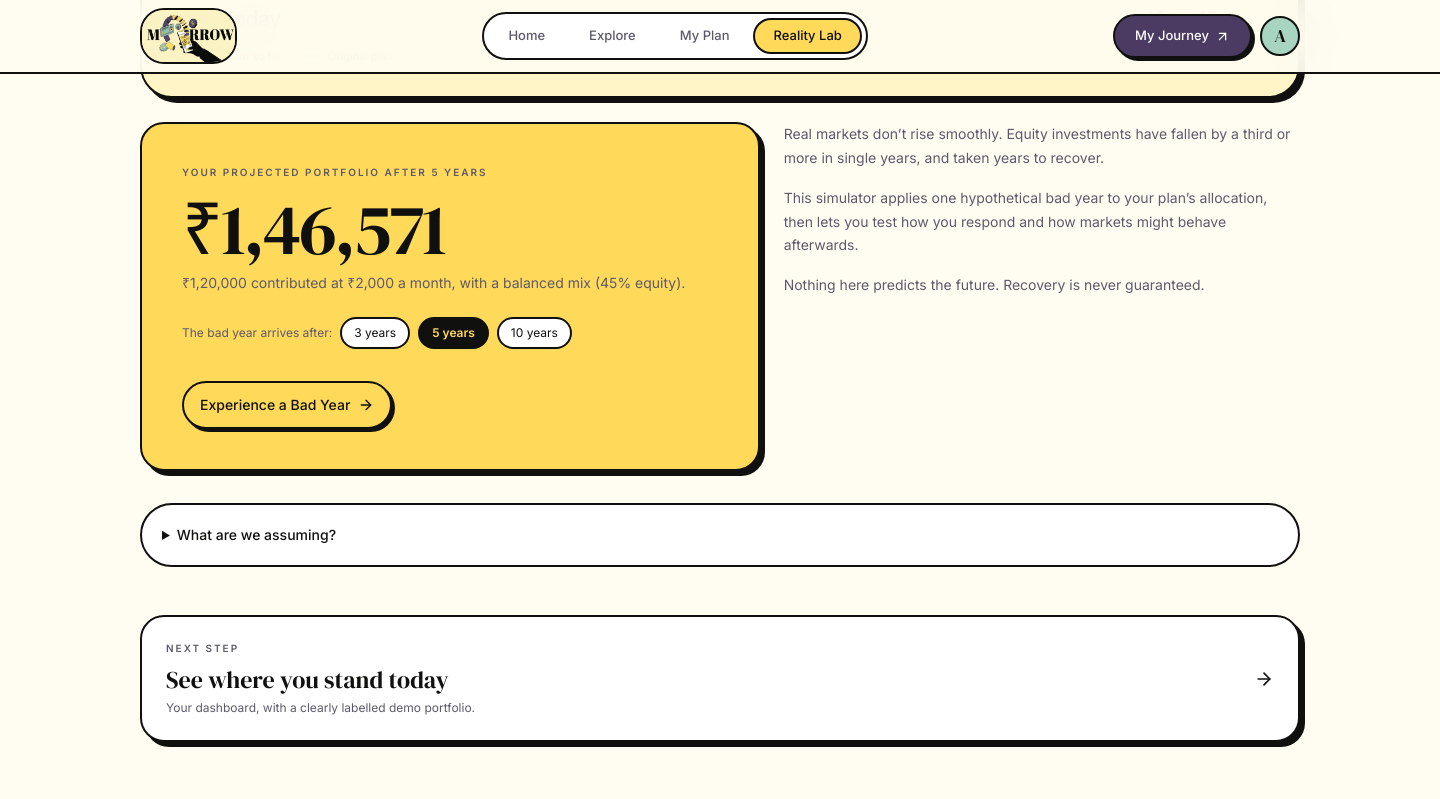
it: Reality Lab › walks through a bad year, decisions and scenarios without changing the plan
(page scrolled)
What coordinates should you click on to do the following:
click the button "Experience a Bad Year"
I would click on:
 (287, 405)
Its box is [182,381,392,429].
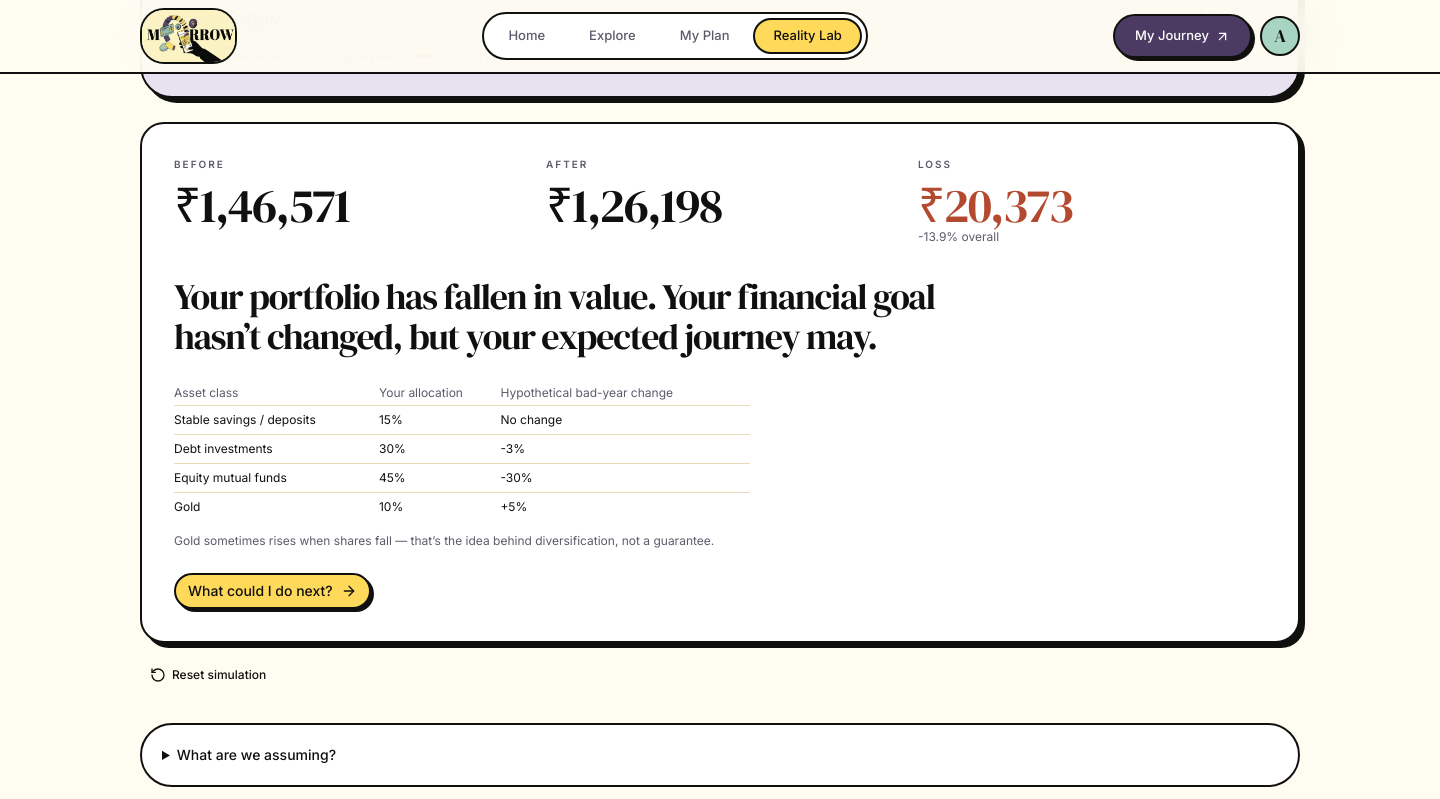
expect the text "Your financial goal hasn’t changed, but your expected journey may" is shown: met, box [174,272,935,361]
What coordinates should you click on to do the following:
click the button "What could I do next?"
I would click on:
 (272, 591)
Its box is [174,573,371,609].
(page scrolled)
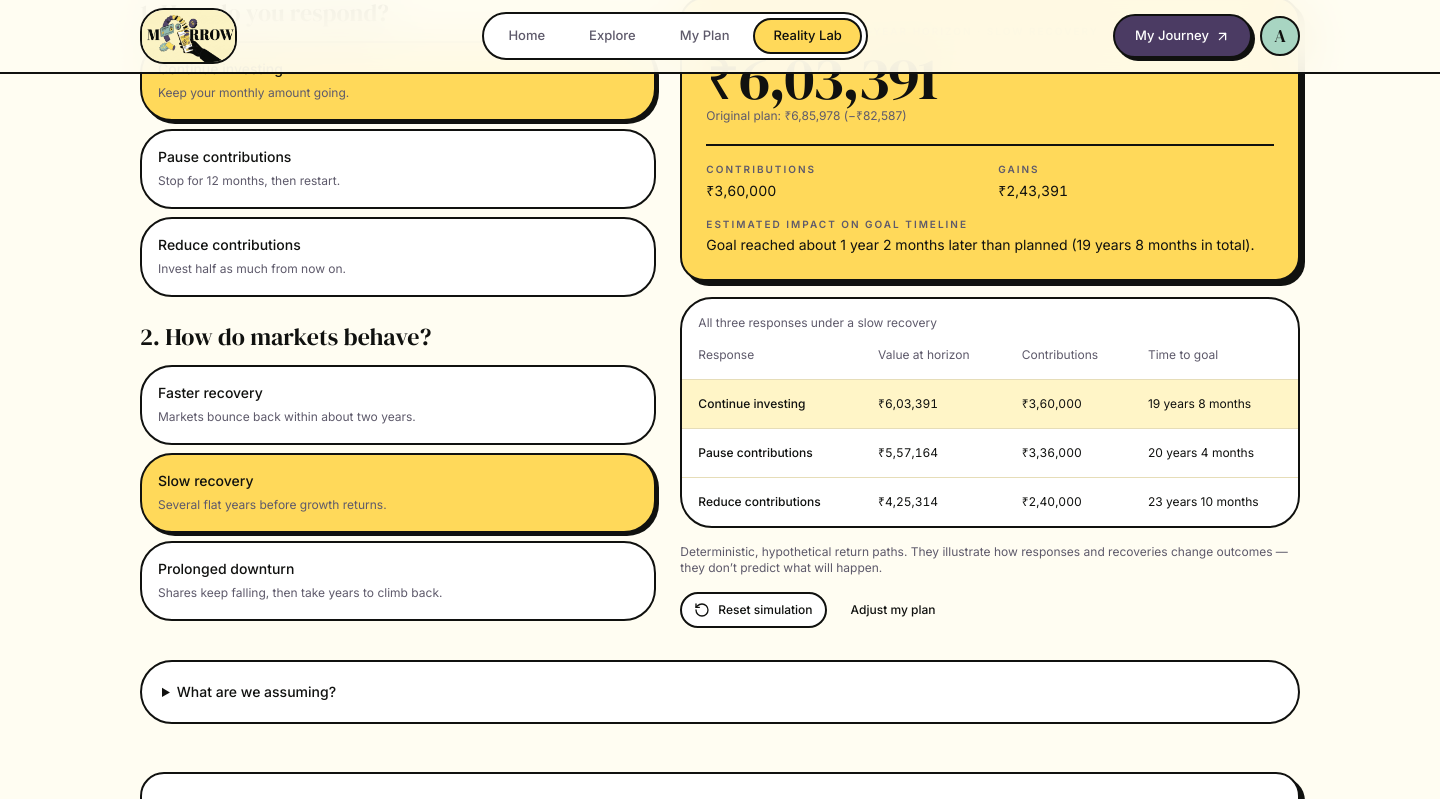
What coordinates should you click on to do the following:
click the radio button labelled "Faster recovery Markets bounce back within about two years."
I would click on:
 (210, 393)
Its box is [140,365,656,445].
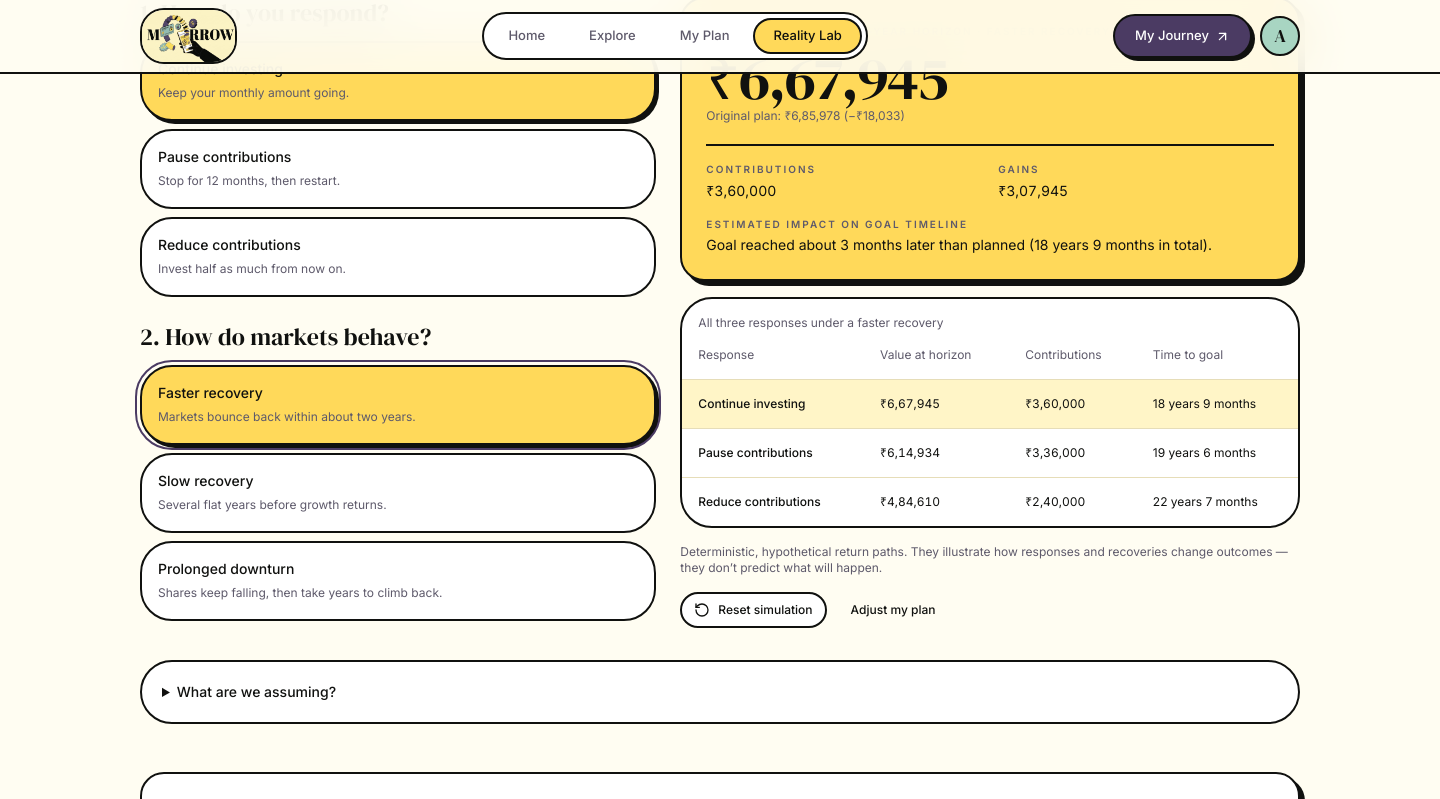
What coordinates should you click on to do the following:
click the radio button labelled "Pause contributions Stop for 12 months, then restart."
I would click on:
 (225, 157)
Its box is [140,129,656,209].
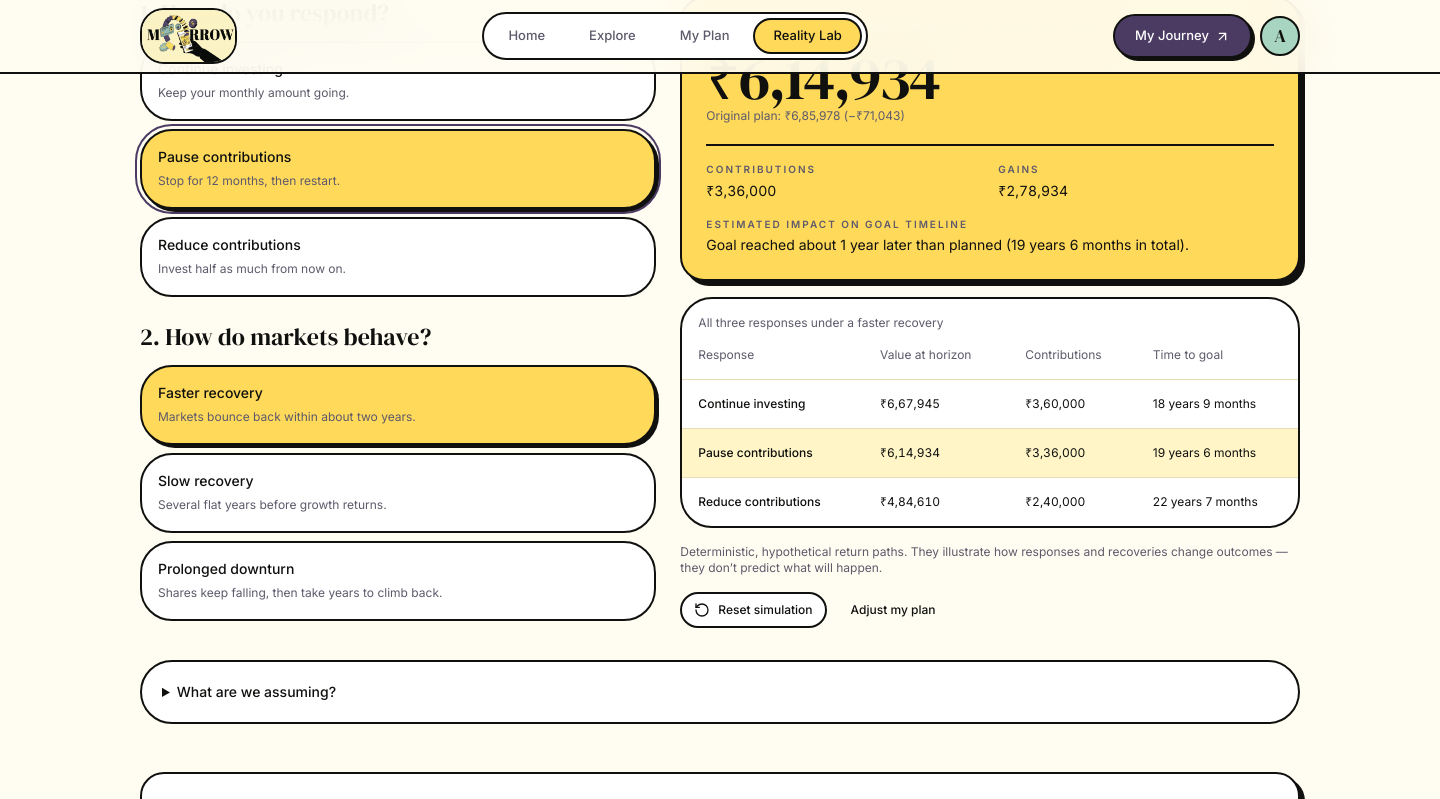
expect the table "All three responses" is shown: met, box [682,299,1298,526]
What coordinates should you click on to do the following:
click the button "Reset simulation"
I would click on:
 (754, 610)
Its box is [680,592,827,628].
(page scrolled)
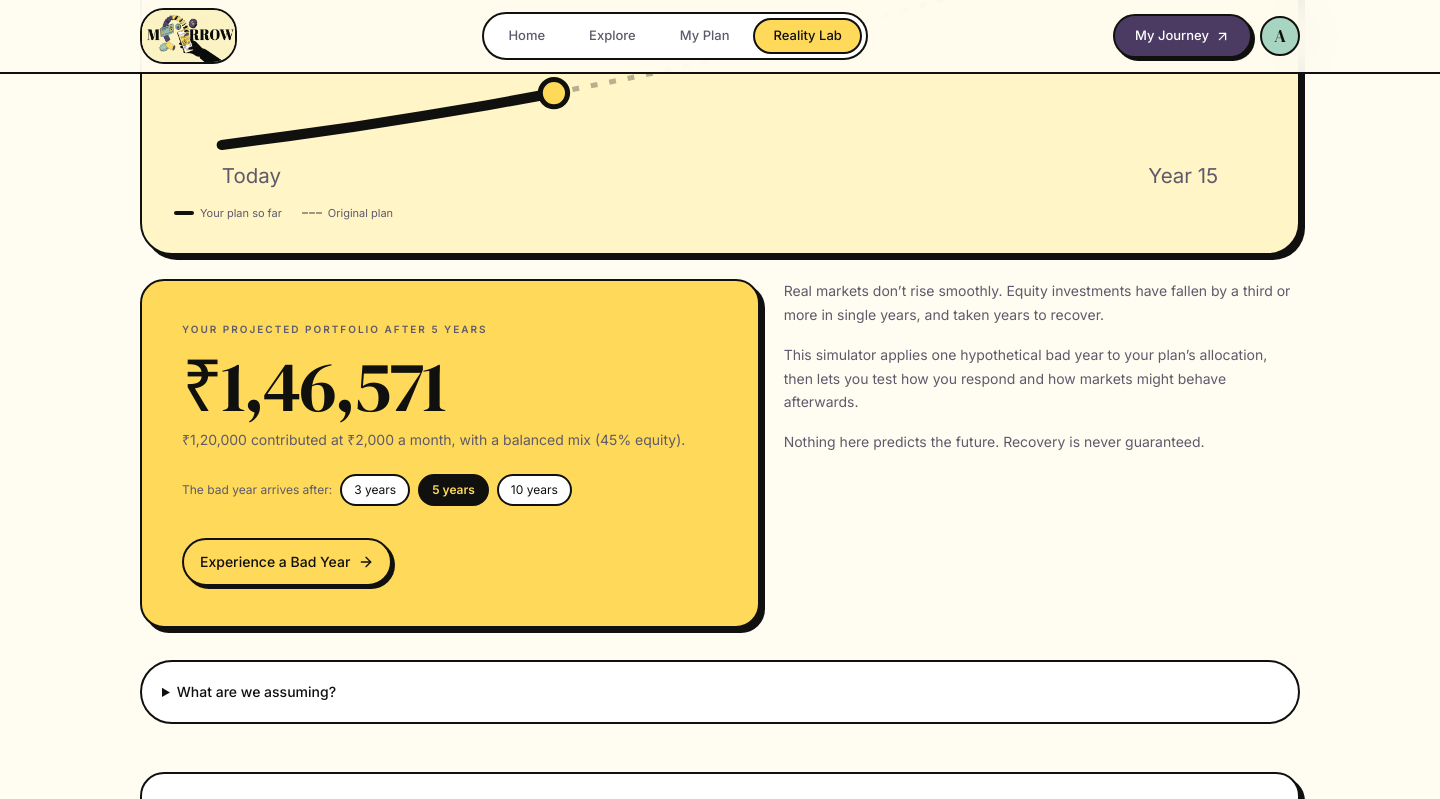
expect the button "Experience a Bad Year" is shown: met, box [182,538,392,586]
